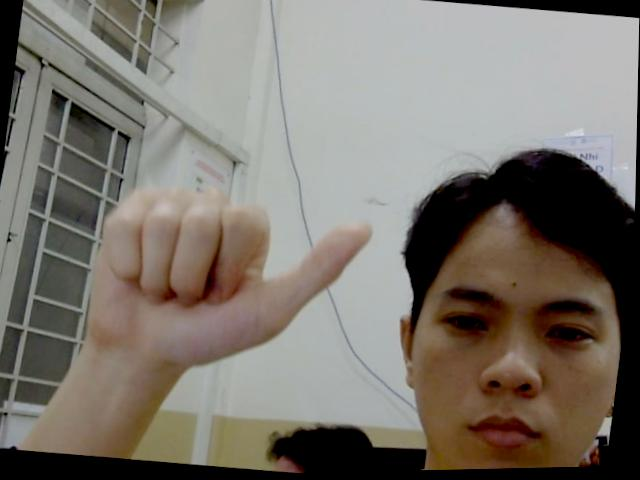A: (81, 173, 383, 399)
